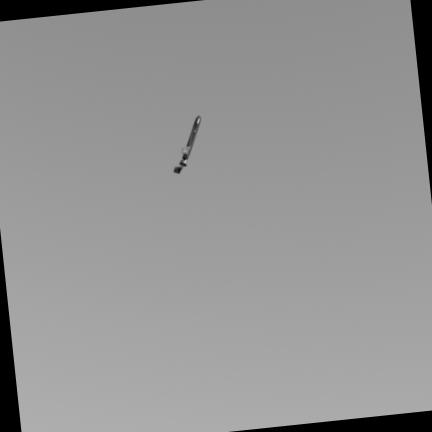Shahed: (174, 116, 200, 173)
